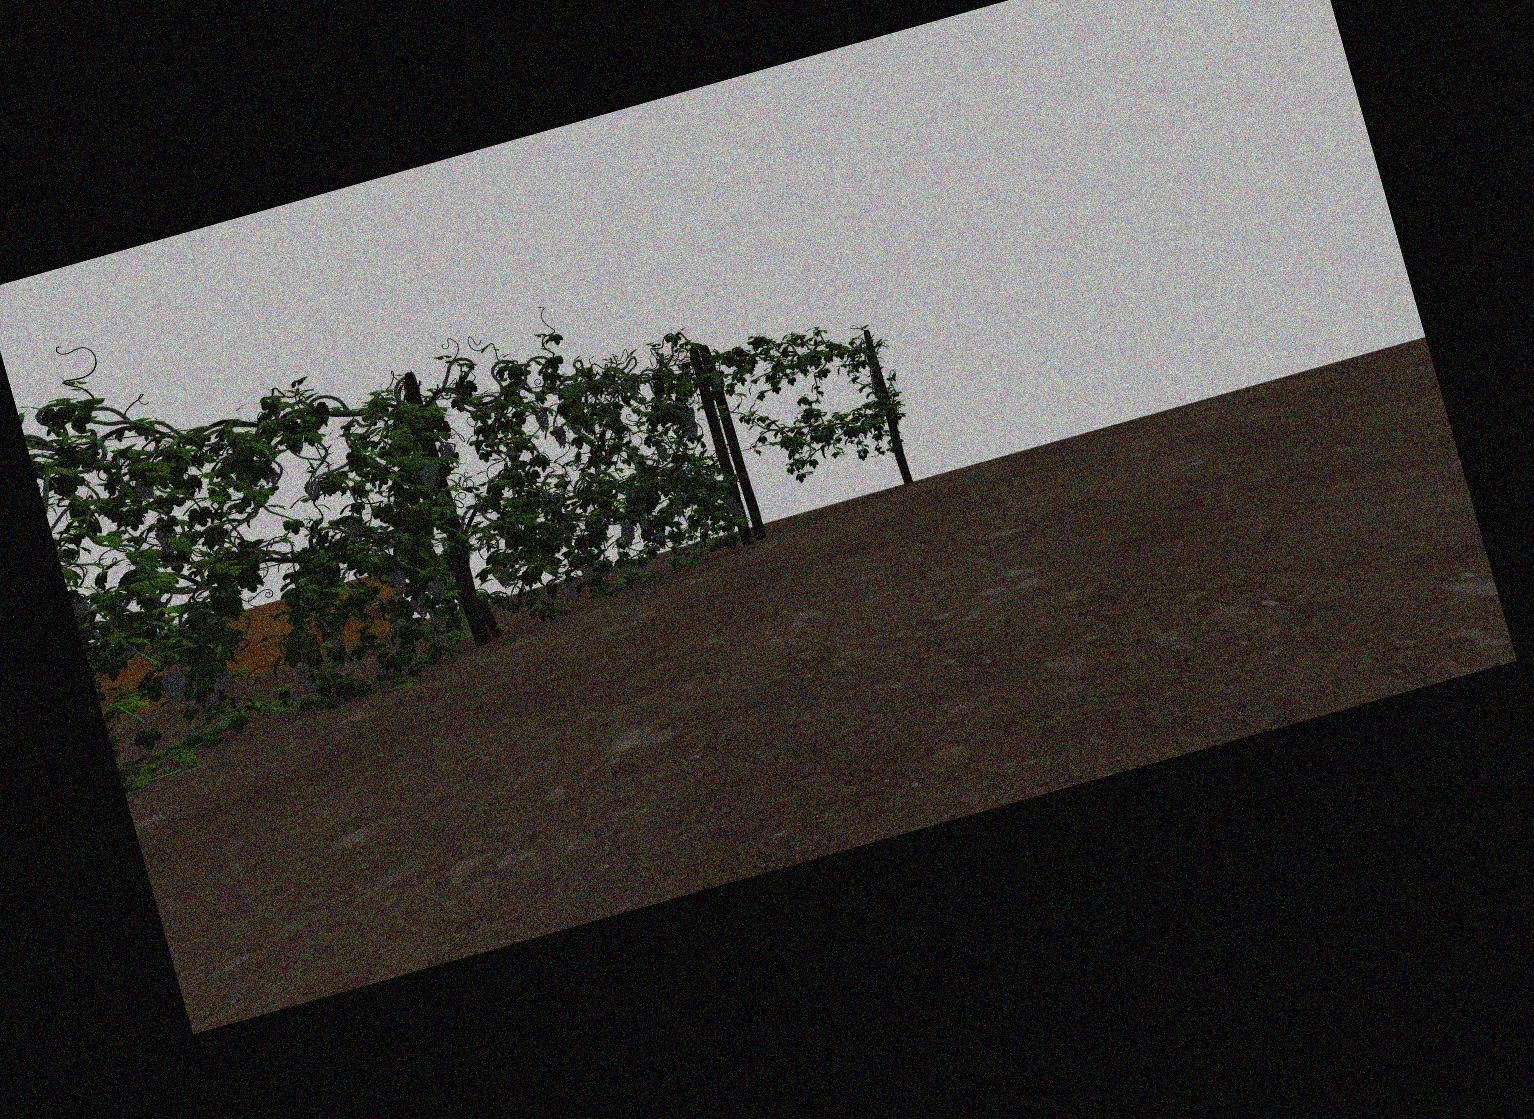grape: (162, 668, 187, 701), (156, 523, 179, 555), (298, 665, 318, 695), (347, 515, 366, 544), (411, 593, 430, 620), (389, 569, 409, 594), (493, 562, 510, 589), (202, 684, 222, 708), (216, 669, 233, 694), (420, 467, 438, 492), (429, 576, 445, 602), (135, 479, 154, 501), (305, 479, 322, 501), (622, 521, 636, 546), (554, 426, 568, 450), (561, 582, 576, 604), (537, 410, 550, 432), (439, 442, 454, 462), (331, 634, 347, 651), (682, 420, 698, 437), (671, 496, 682, 518), (710, 369, 722, 388), (657, 443, 668, 463), (581, 564, 594, 580), (727, 498, 738, 513), (431, 615, 443, 629), (734, 507, 744, 520), (701, 520, 710, 532)
